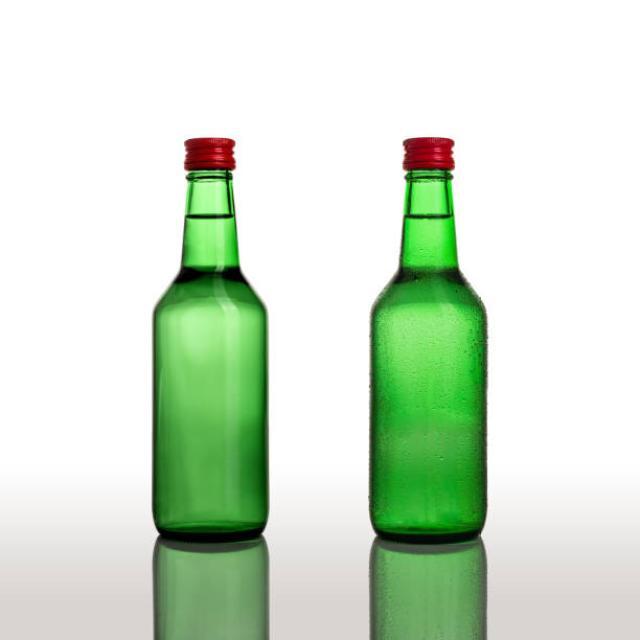electronic: (149, 123, 489, 552)
